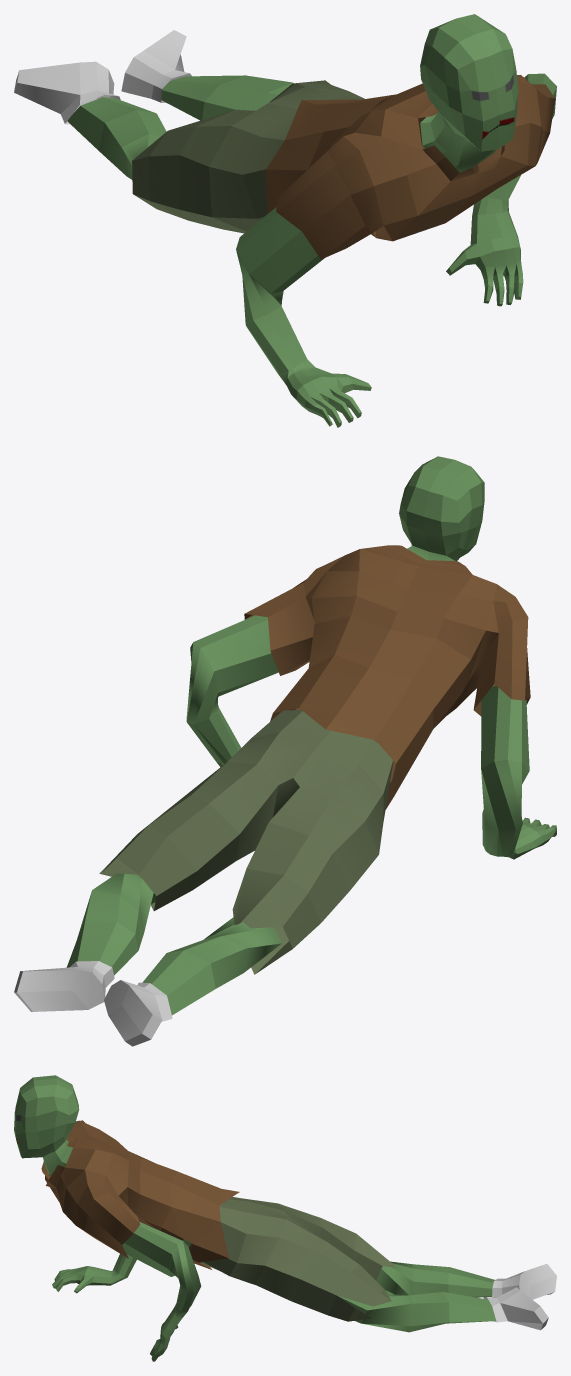
The model's file is ZombieCrawl(44).obj.
3 views of the same model, one above another, from view 1: azimuth 30°, elevation 25°; view 2: azimuth 150°, elevation 25°; view 3: azimuth 270°, elevation 25° (orthographic). The views are drawn at different scales.
Parts seen in each view (by area): view 1: Object001; view 2: Object001; view 3: Object001.
Boxes of the visible parts, x1,y1,x2,y2 form: Object001: [14, 14, 556, 427]; Object001: [14, 456, 556, 1046]; Object001: [14, 1075, 556, 1361].
Bounding box in the file's own units: 26.29 × 27.66 × 55.31.
